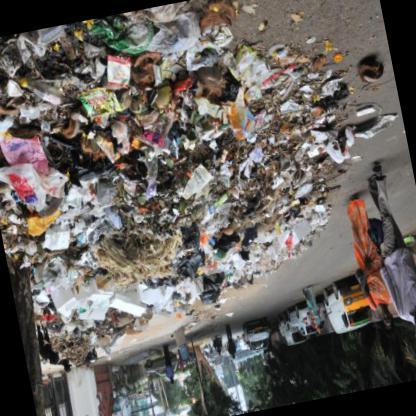Garbage: (36, 0, 281, 264), (64, 55, 302, 282), (0, 18, 142, 262), (246, 204, 312, 266), (71, 328, 106, 356)
